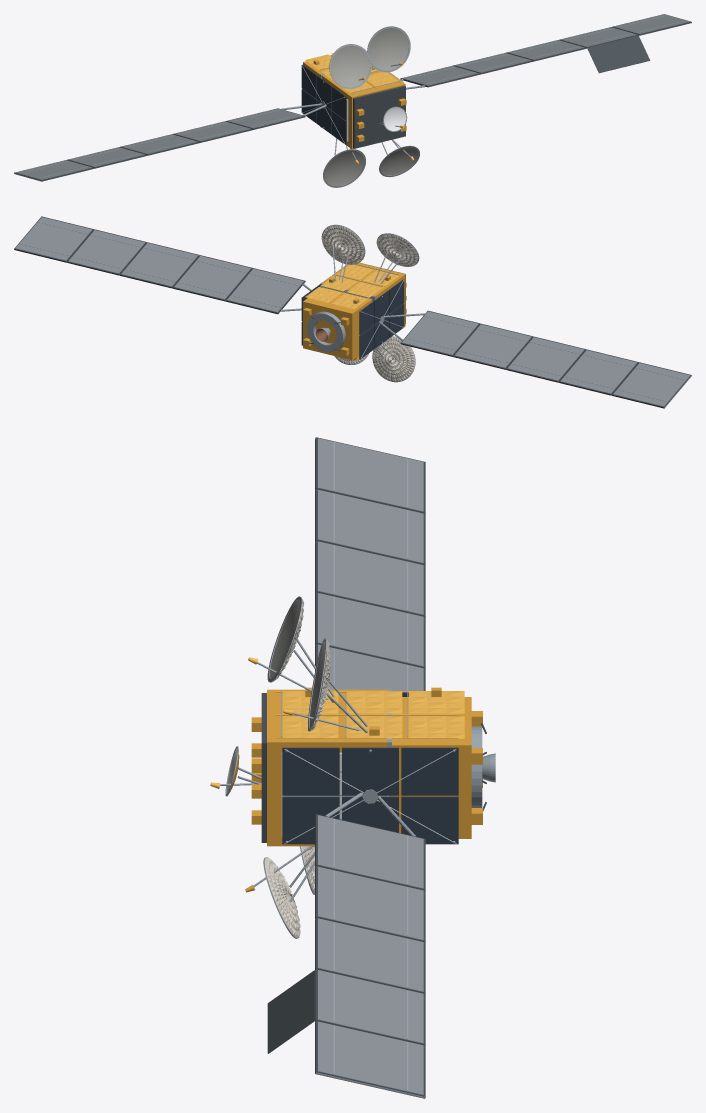
The model's file is ref-eurostar-3000-28187.glb.
3 renders of one model, top to bottom at view 1: azimuth 30°, elevation 25°; view 2: azimuth 150°, elevation 25°; view 3: azimuth 270°, elevation 25°, orthographic. The views are drawn at different scales.
Visible parts, largest first — view 1: Rear array substrate (×10), Radiator tile bay (×6), Earth-facing deck, W3A reflector 4 face, W3A outboard array flap, W3A reflector 3 face, W3A reflector 1 face, Payload module, W3A reflector 2 face, W3A deck antenna face, Overlapping thermal blanket; view 2: Rear array substrate (×10), Solar panel frame (×9), Radiator tile bay (×6), Service module, W3A reflector 1 insulated back, Overlapping thermal blanket (×4), W3A reflector 4 insulated back, W3A reflector 3 insulated back, Launch adapter ring, Payload module; view 3: Rear array substrate (×10), Radiator tile bay (×6), Overlapping thermal blanket (×5), Payload module, Service module, W3A outboard array flap, W3A reflector 2 insulated back, W3A reflector 3 face.
Part boxes in pixels (x1,y1,x2,y2): Rear array substrate (×10): (15,14,689,179); Radiator tile bay (×6): (301,64,346,144); Earth-facing deck: (353,85,405,148); W3A reflector 4 face: (367,26,410,72); W3A outboard array flap: (587,35,650,73); W3A reflector 3 face: (329,44,371,89); W3A reflector 1 face: (323,149,365,187); Payload module: (322,71,405,148); W3A reflector 2 face: (379,146,419,177); W3A deck antenna face: (384,106,406,130); Overlapping thermal blanket: (367,72,398,86); Rear array substrate (×10): (15,217,689,406); Solar panel frame (×9): (14,216,638,395); Radiator tile bay (×6): (359,279,404,359); Service module: (303,287,372,360); W3A reflector 1 insulated back: (372,336,415,382); Overlapping thermal blanket (×4): (305,264,382,308); W3A reflector 4 insulated back: (321,225,364,264); W3A reflector 3 insulated back: (376,233,418,266); Launch adapter ring: (307,311,345,352); Payload module: (322,263,405,326); Rear array substrate (×10): (318,438,423,1094); Radiator tile bay (×6): (282,747,458,844); Overlapping thermal blanket (×5): (282,691,464,738); Payload module: (267,689,387,846); Service module: (392,697,471,838); W3A outboard array flap: (267,970,315,1053); W3A reflector 2 insulated back: (264,857,300,938); W3A reflector 3 face: (267,596,301,682).
Bounding box in the file's own units: 35 × 7.54 × 6.64.
